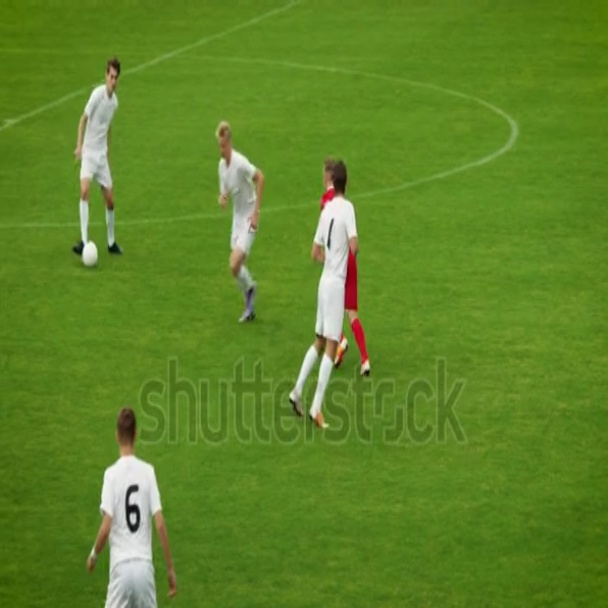ball: (83, 239, 100, 268)
